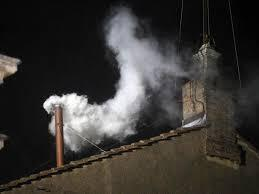smoke: (42, 0, 196, 151)
